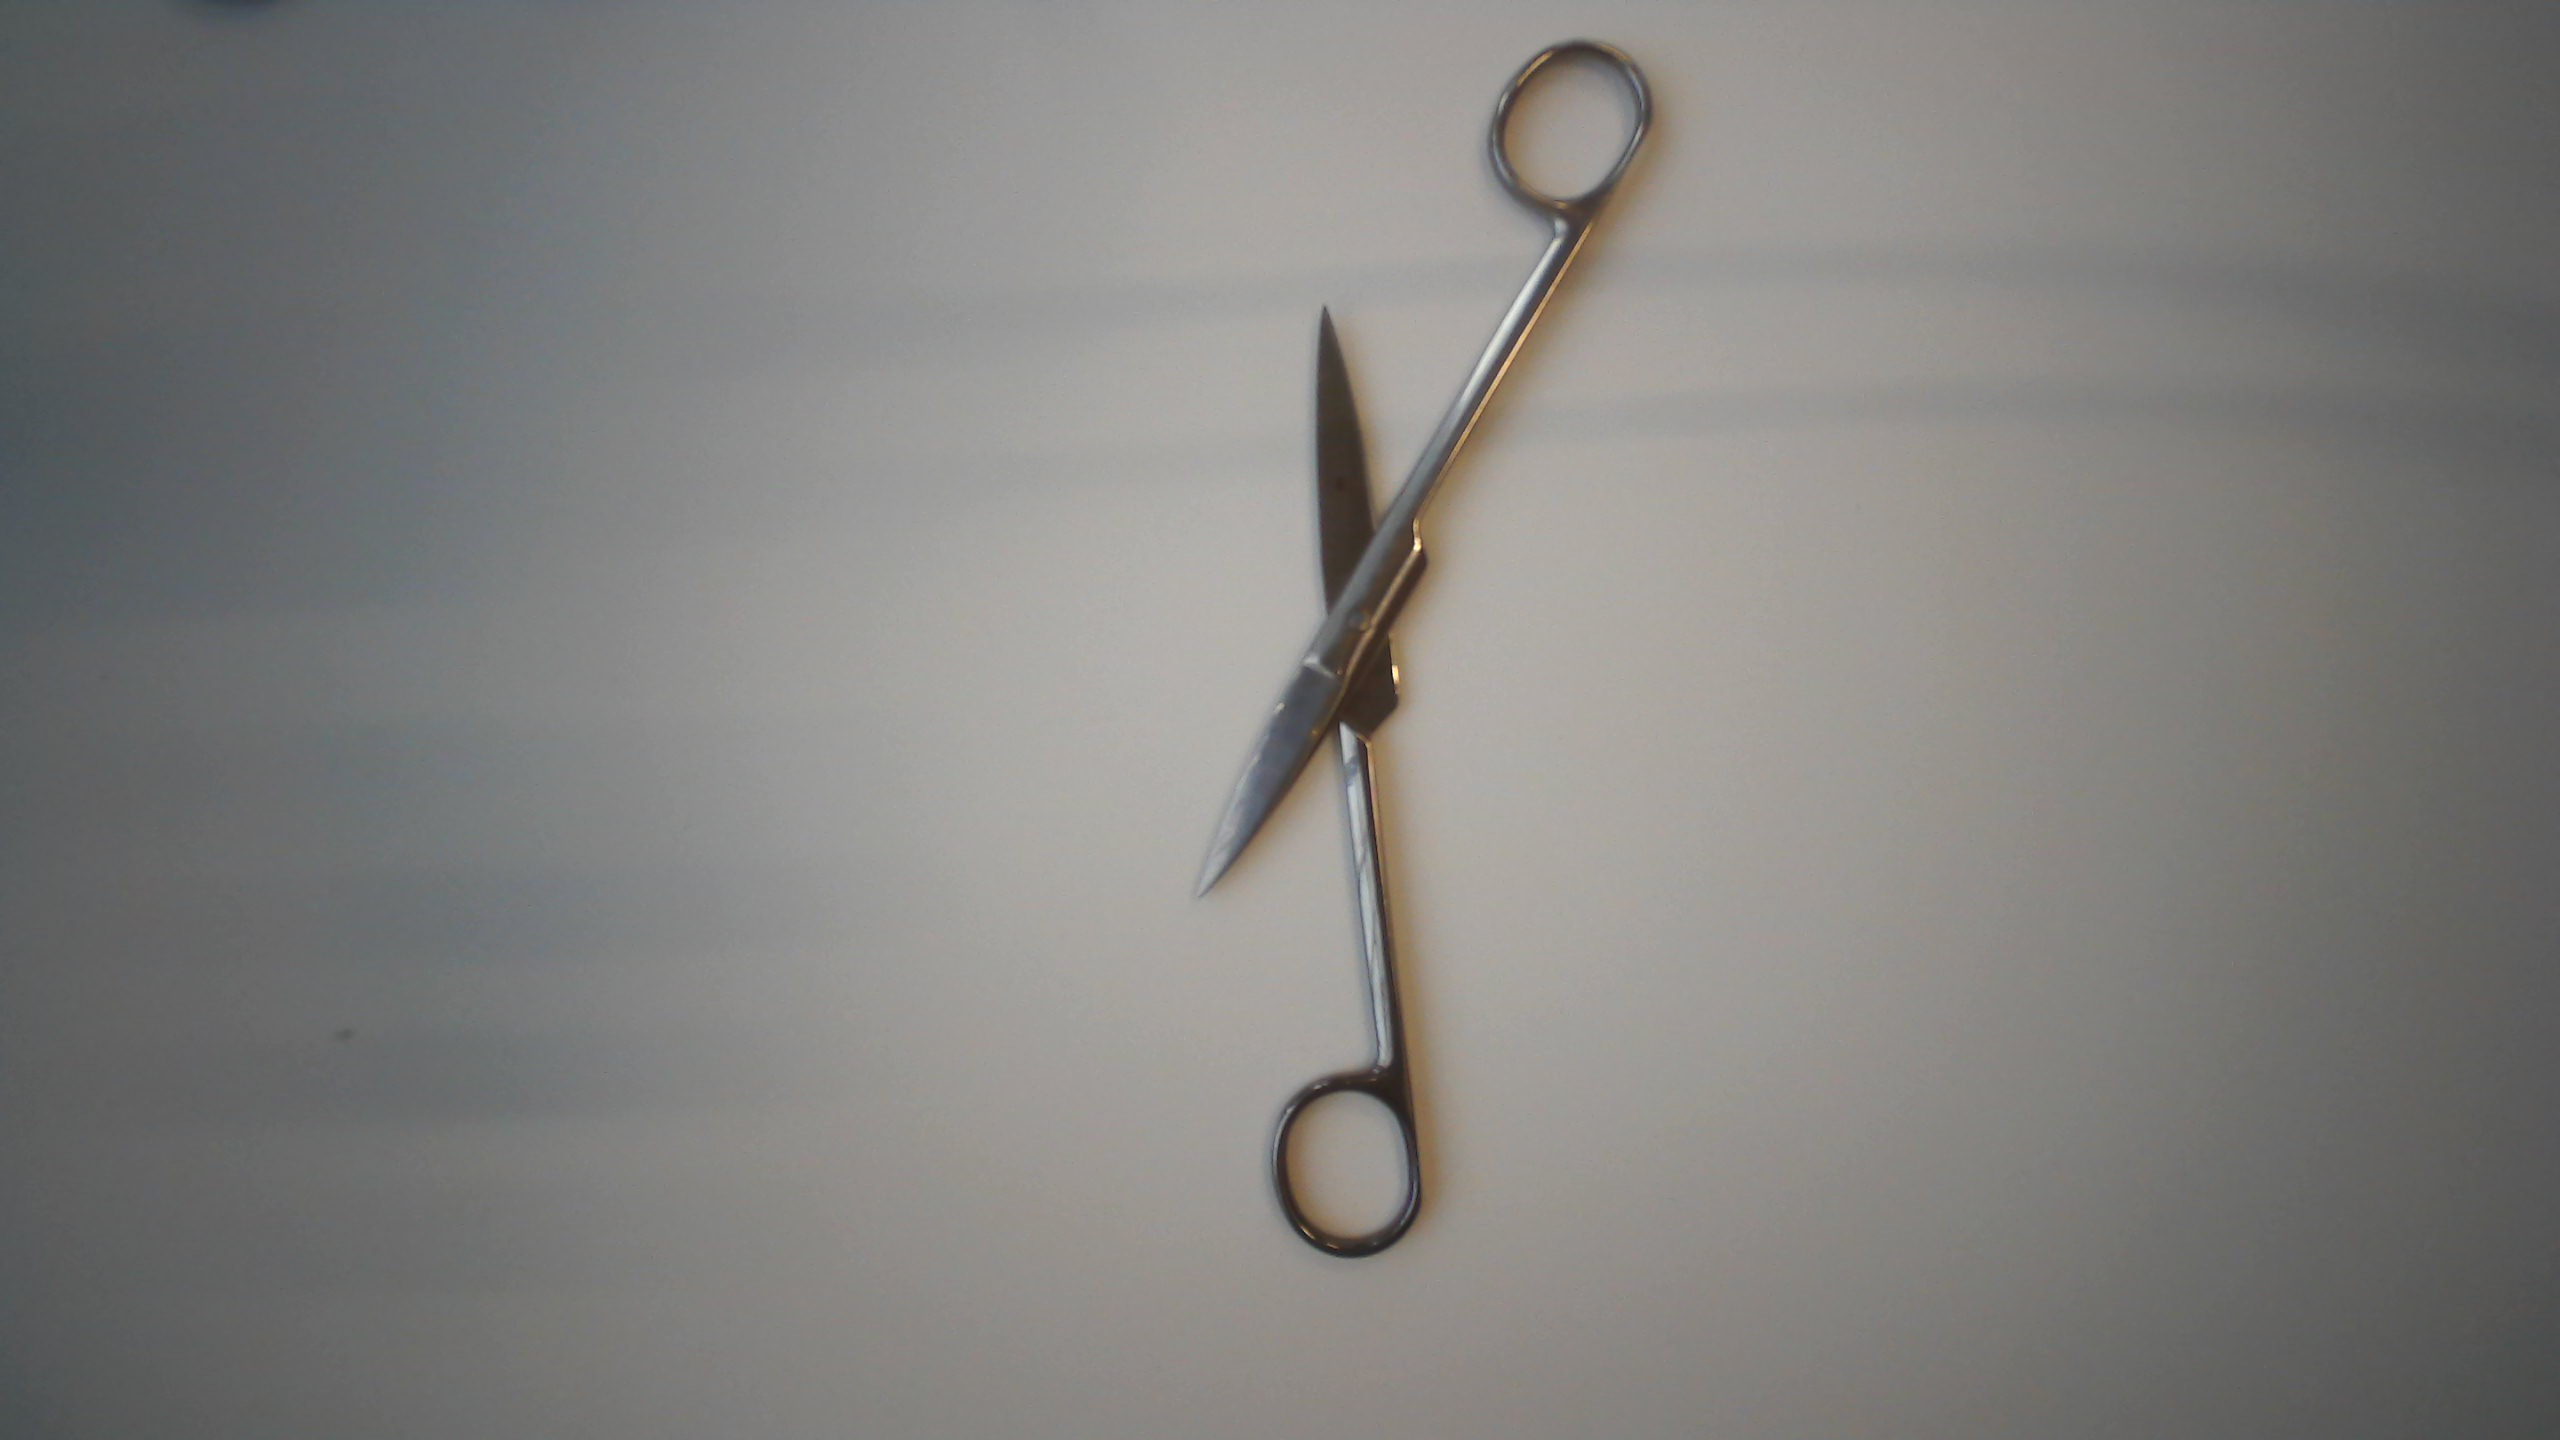Stain: (1327, 466, 1349, 501)
